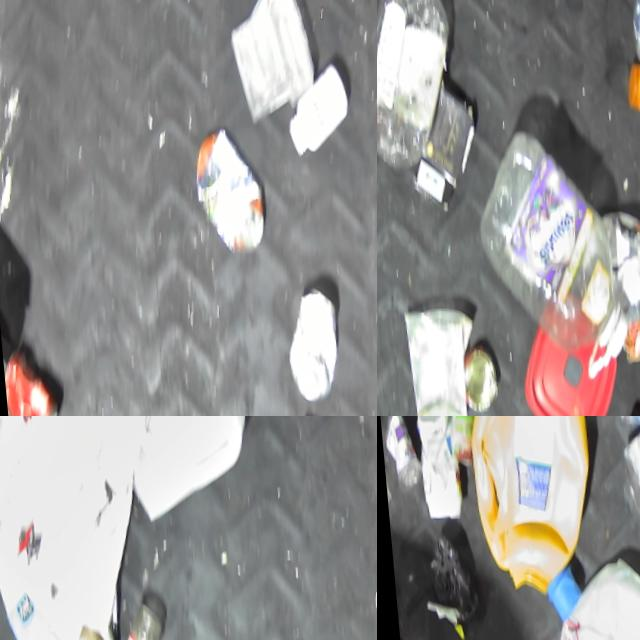can: (183, 127, 267, 260), (389, 305, 475, 416), (274, 288, 337, 406), (0, 344, 54, 416), (450, 344, 494, 416), (623, 321, 640, 416)
milk_jug: (111, 416, 254, 537)
non_white_jug: (449, 416, 596, 595)
plastic_bottle: (377, 0, 459, 176), (604, 416, 640, 534)
